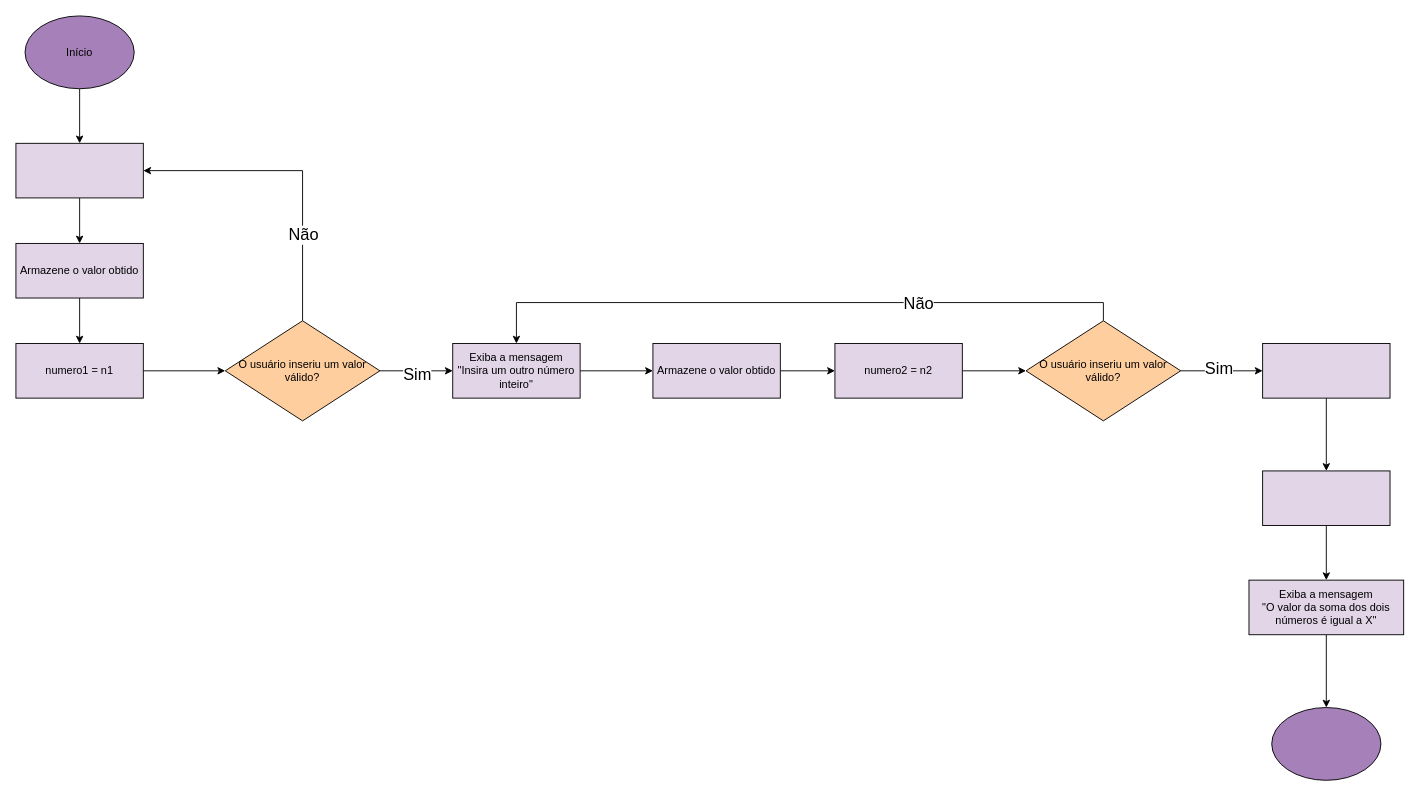
Some shapes in this 1420 by 796 pixel diagram are drawn without their labels. The centre of each missing label's shape, as x and y in pixels:
Exiba a mensagem "Insira um número inteiro": (79,170)
Fim: (1326,743)
n1 + n2 = X: (1326,370)
resultado = X: (1326,498)
